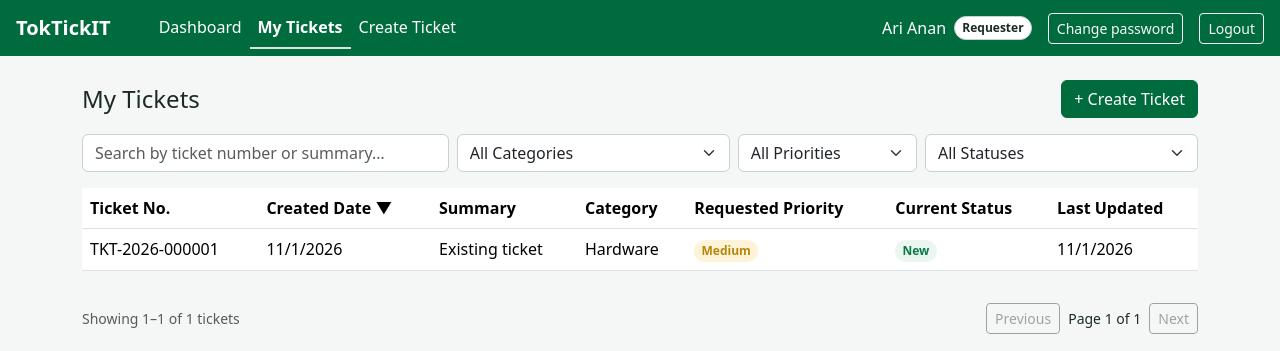
Test: My Tickets › shows the no-results state with filters still visible once a search narrows to zero (AC-12)
In the search field with placeholder "Search by ticket number or summary…": (265, 153) [82,134,449,172], type "nothing matches this"
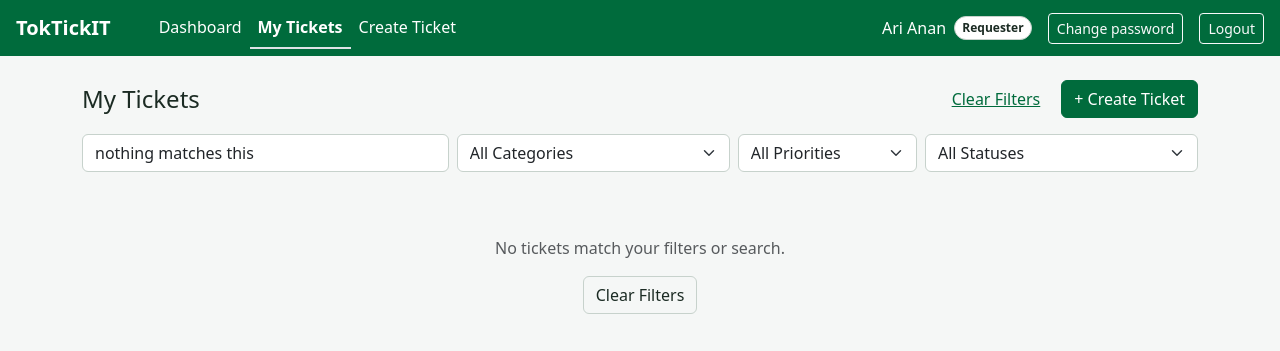
expect the text "No tickets match your filters or search." is shown: met, box [495,237,785,259]
expect the 1st button "Clear Filters" is shown: met, box [939,80,1053,118]
